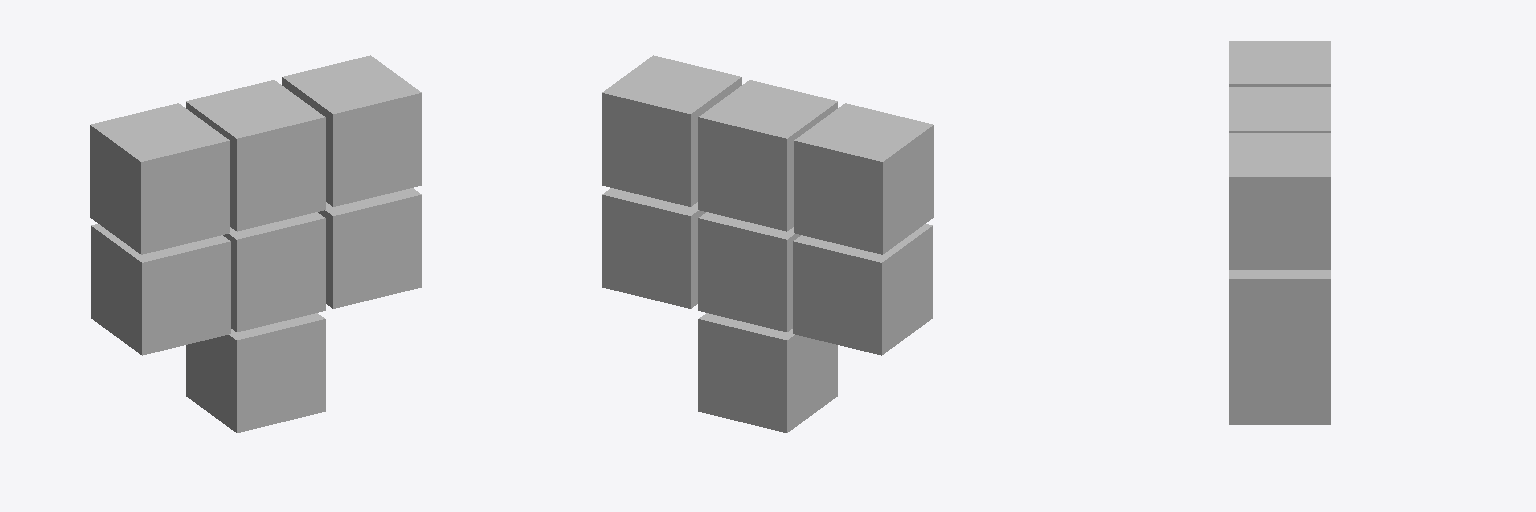
File: apple.obj
3 renders of one model, left to right at view 1: azimuth 30°, elevation 25°; view 2: azimuth 150°, elevation 25°; view 3: azimuth 270°, elevation 25°, orthographic.
Parts seen in each view (by area): view 1: Cube.006, Cube.004, Cube.005, Cube.002, Cube, Cube.003, Cube.001; view 2: Cube.006, Cube.004, Cube.005, Cube.002, Cube, Cube.003, Cube.001; view 3: Cube.005, Cube.003, Cube, Cube.002, Cube.006.
Boxes of the visible parts, <box> form: Cube.006: <box>90,103,229,254</box>; Cube.004: <box>91,224,230,355</box>; Cube.005: <box>282,55,421,206</box>; Cube.002: <box>186,80,325,231</box>; Cube: <box>186,313,325,432</box>; Cube.003: <box>318,188,421,308</box>; Cube.001: <box>223,212,325,331</box>; Cube.006: <box>794,103,933,254</box>; Cube.004: <box>793,224,932,355</box>; Cube.005: <box>602,55,741,206</box>; Cube.002: <box>698,80,837,231</box>; Cube: <box>698,313,837,432</box>; Cube.003: <box>602,188,705,308</box>; Cube.001: <box>698,212,800,331</box>; Cube.005: <box>1229,133,1330,269</box>; Cube.003: <box>1229,270,1330,370</box>; Cube: <box>1229,371,1330,424</box>; Cube.002: <box>1229,87,1330,132</box>; Cube.006: <box>1229,41,1330,86</box>.
Bounding box in the file's own units: 6.33 × 6.37 × 2.